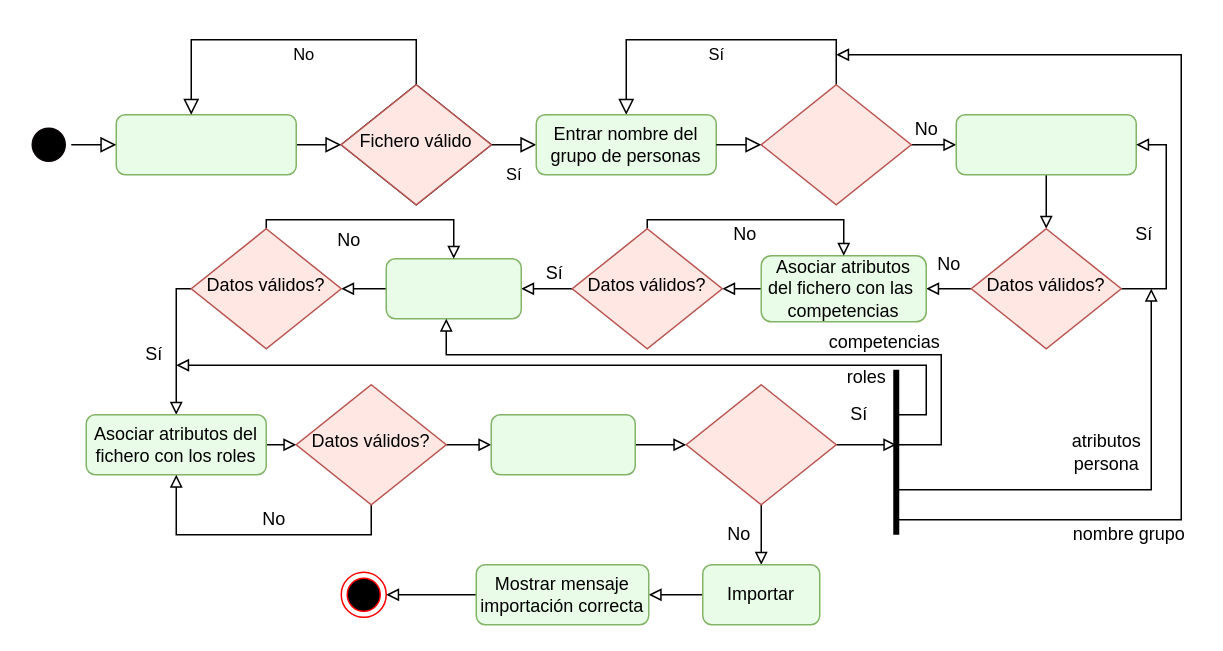
Some shapes in this 1223 by 651 pixel diagram are drawn without their labels. Here are the shapes that lost their labels. From the top down, the box of each, then its label:
(115, 113, 296, 175): Seleccionar fichero
(760, 83, 911, 205): Nombre grupo vacío?
(955, 113, 1136, 175): Asociar atributos de las personas
(385, 257, 521, 319): Configurar competencias
(490, 413, 635, 475): Verificar datos
(685, 383, 836, 505): Cambiar algún dato?
